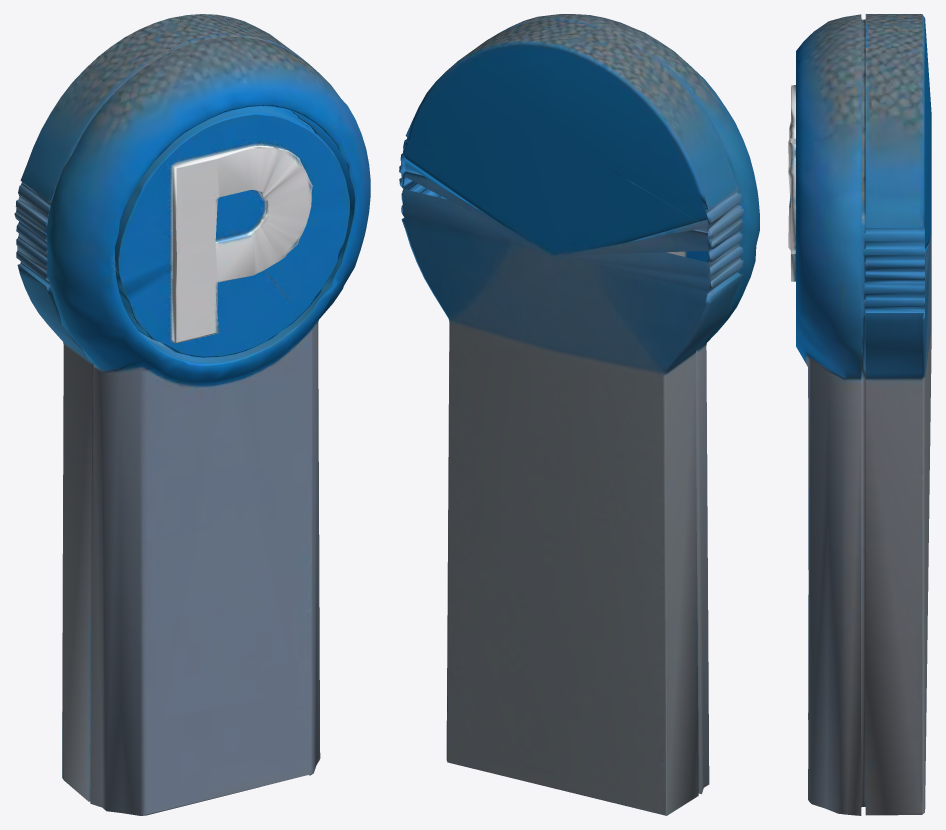
Rendered from parking.glb.
3 views of the same model, side by side, from view 1: azimuth 30°, elevation 25°; view 2: azimuth 150°, elevation 25°; view 3: azimuth 270°, elevation 25° (orthographic).
Size of the model in its own units: 0.4228 by 0.9517 by 0.1689.
1 material, 1 textured.
